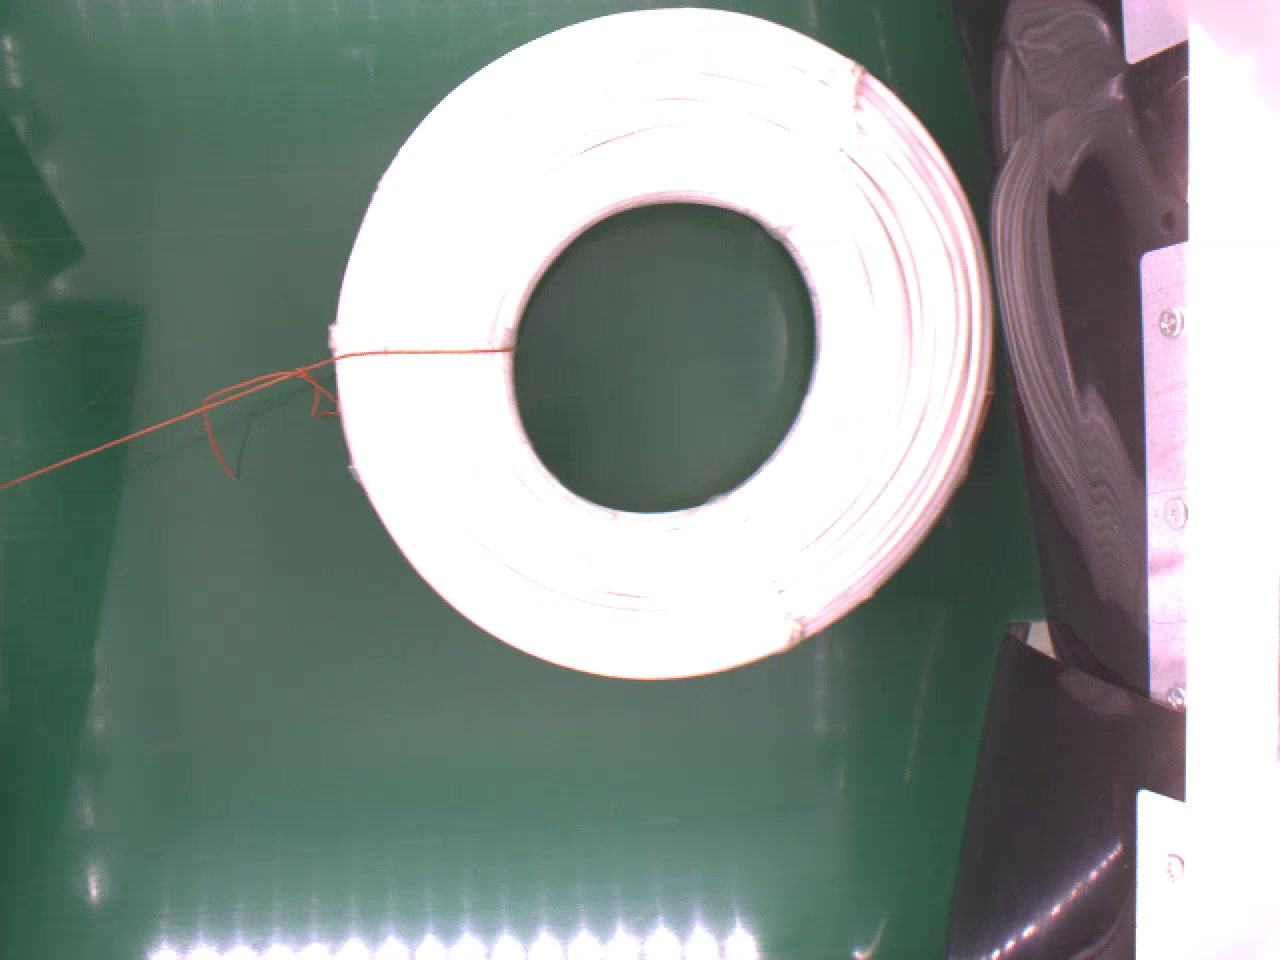white: (330, 8, 999, 683)
